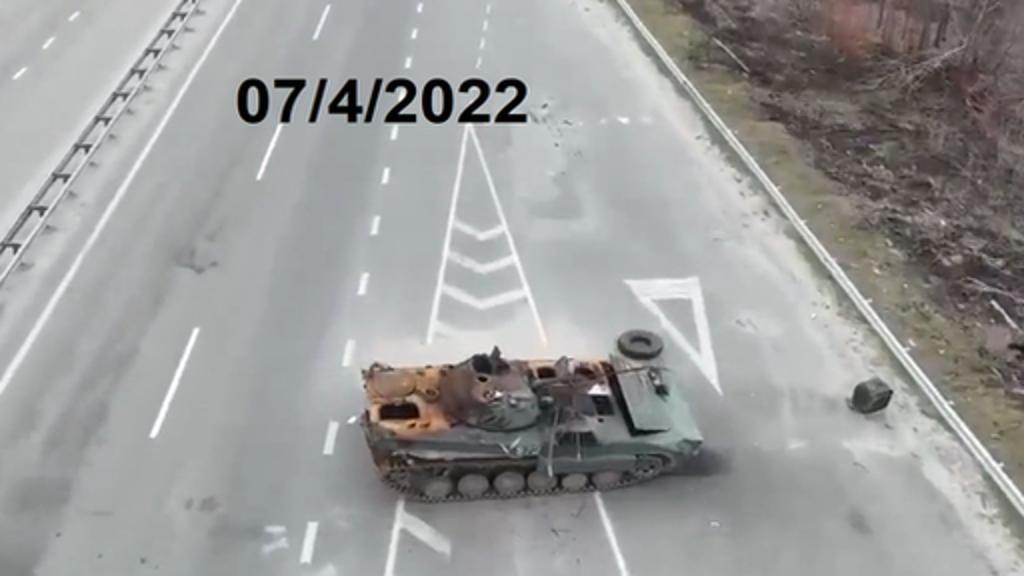APC-IFV: (340, 322, 714, 496)
